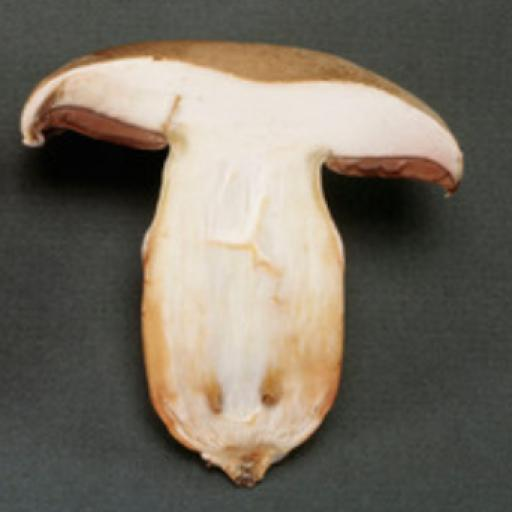Shiitake Mushroom: (12, 29, 465, 491)
